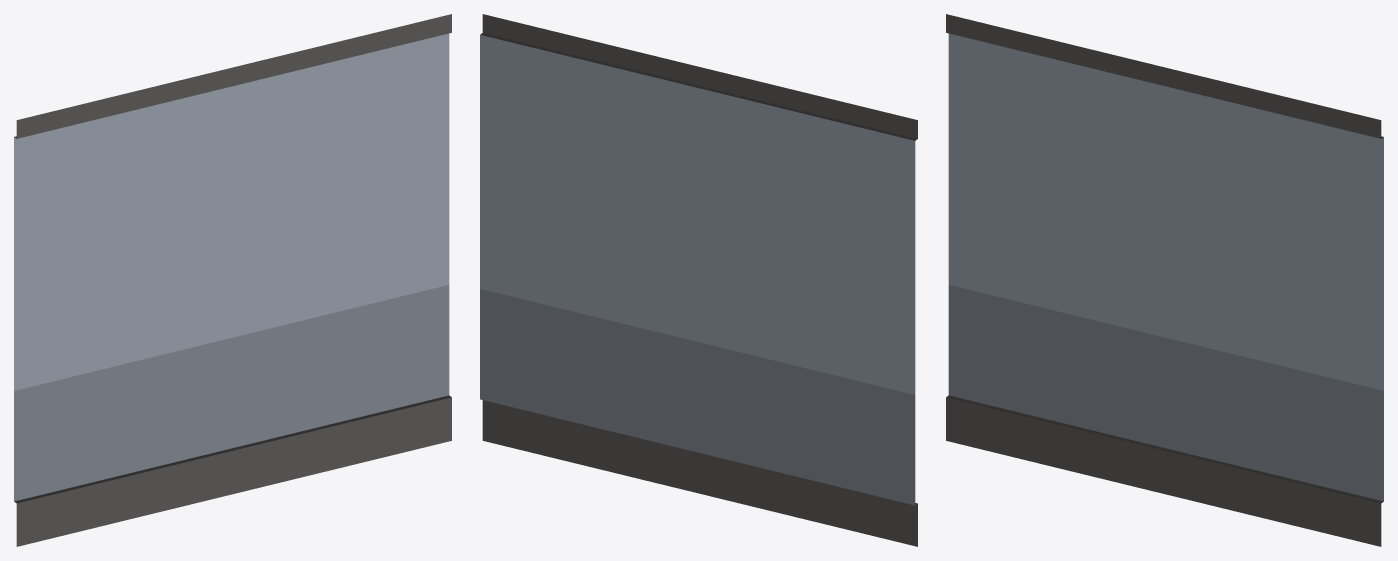
File: SO_Wall_02.fbx
The picture shows the model from 3 angles, left to right: view 1: azimuth 30°, elevation 25°; view 2: azimuth 150°, elevation 25°; view 3: azimuth 330°, elevation 25°; orthographic projection.
Visible parts, largest first — view 1: SO_Wall_02; view 2: SO_Wall_02; view 3: SO_Wall_02.
Boxes of the visible parts, x1,y1,x2,y2 form: SO_Wall_02: (14, 14, 451, 546); SO_Wall_02: (480, 14, 917, 546); SO_Wall_02: (946, 14, 1383, 546).
Size of the model in its own units: 5 by 4.69 by 0.0549.
